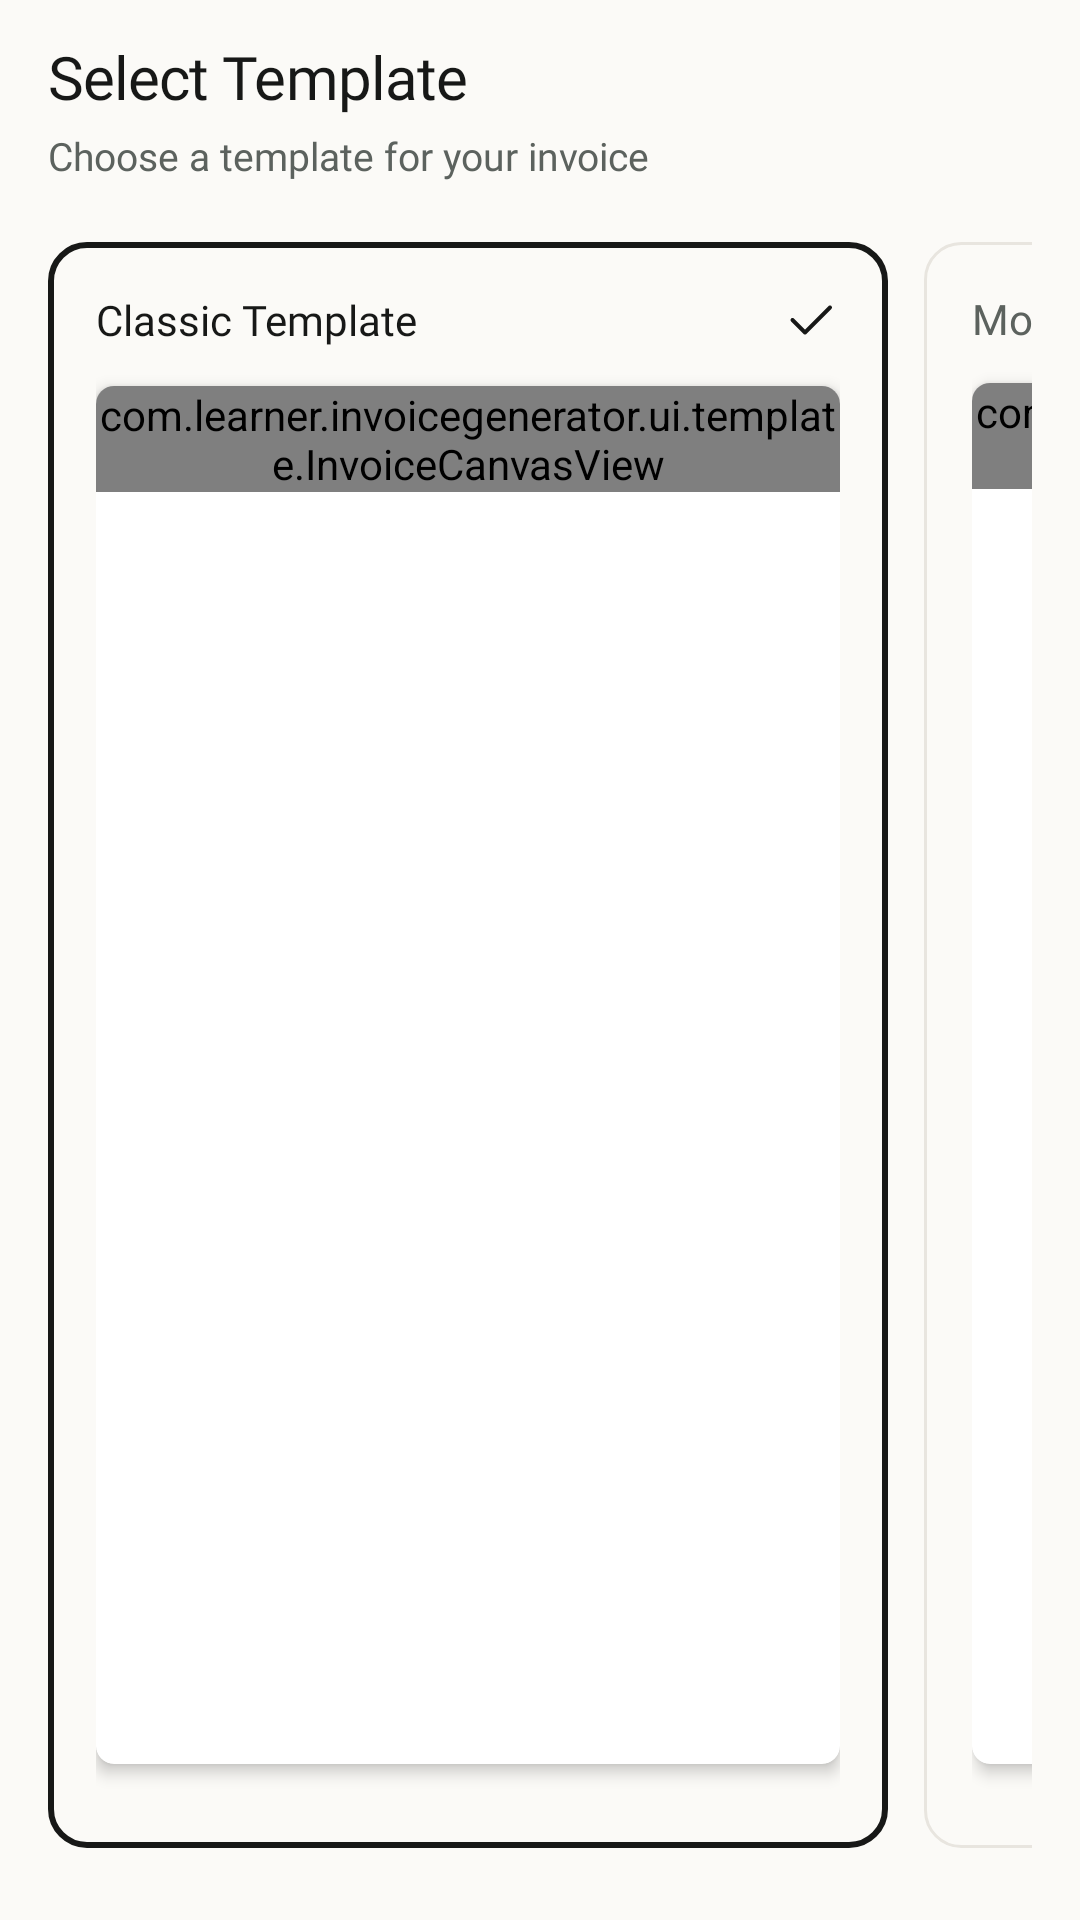

Icons on this 1080 x 1920 Android screen, each with the point to tap as (x=x, y=y):
check: (x=811, y=320)
